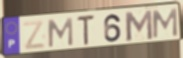6: (103, 13, 123, 43)
M: (123, 9, 154, 43), (47, 17, 75, 49), (152, 8, 179, 40)
T: (76, 14, 96, 47)
Z: (21, 19, 47, 51)
